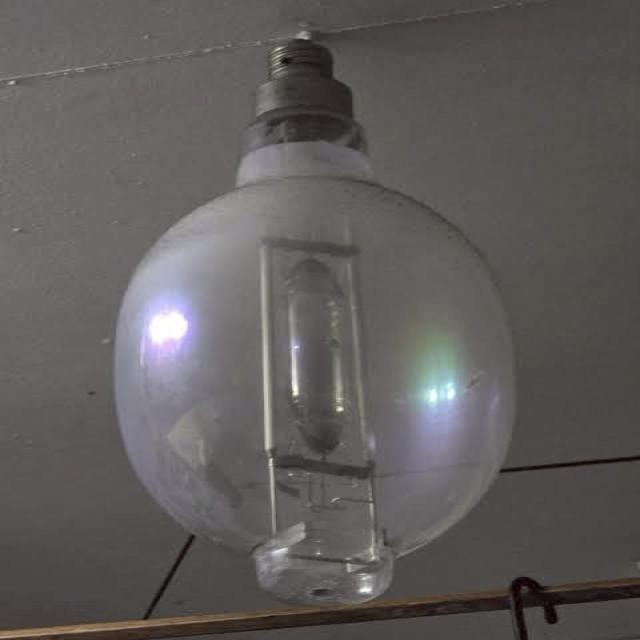bulb: (98, 11, 509, 605)
